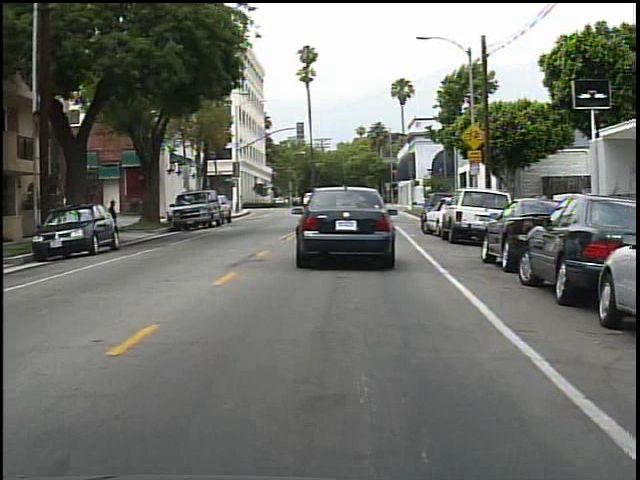person: (104, 195, 123, 244)
